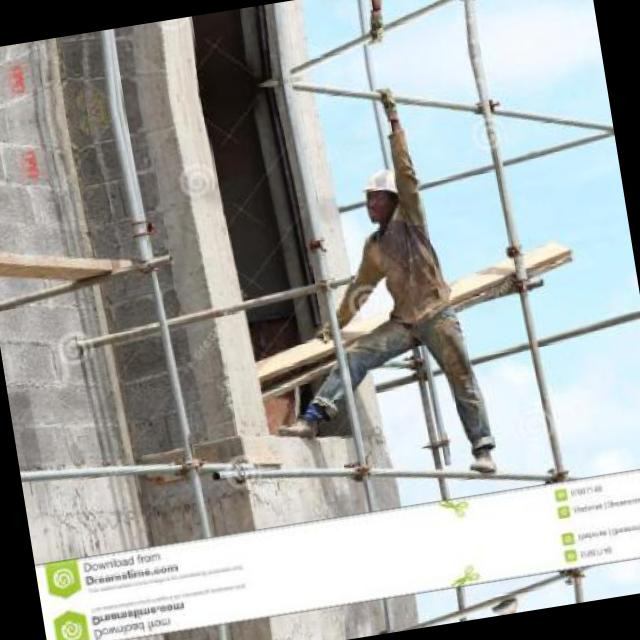helmet: (354, 164, 405, 226)
